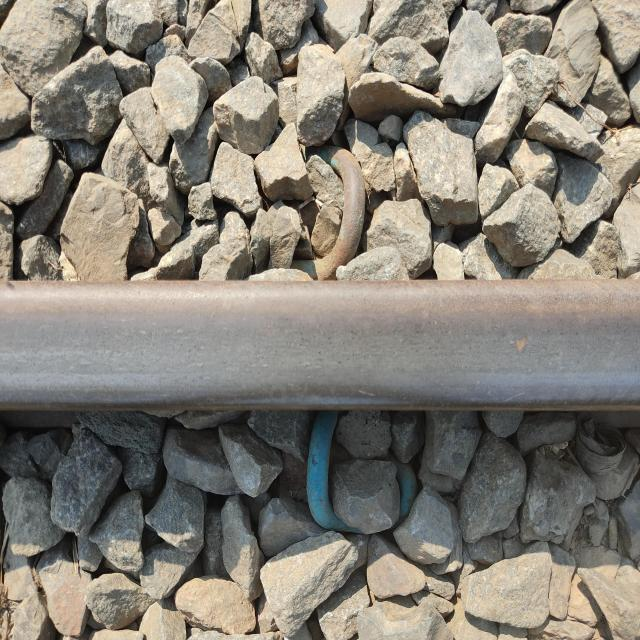squats_low: (516, 336, 527, 354)
